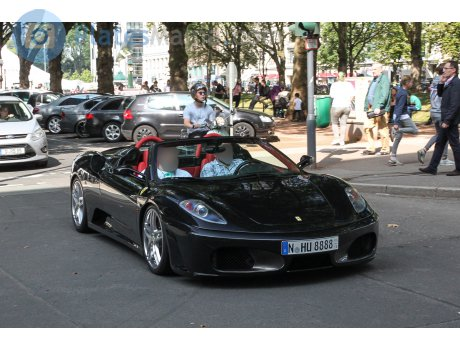License Plates: (286, 236, 339, 248)
